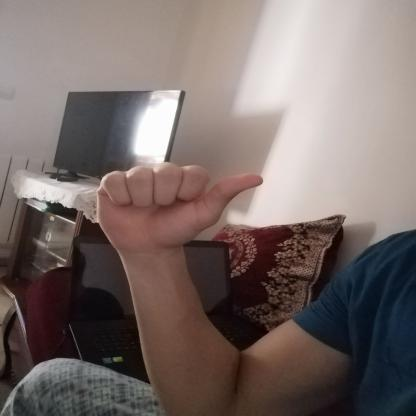DAD: (82, 151, 275, 259)
